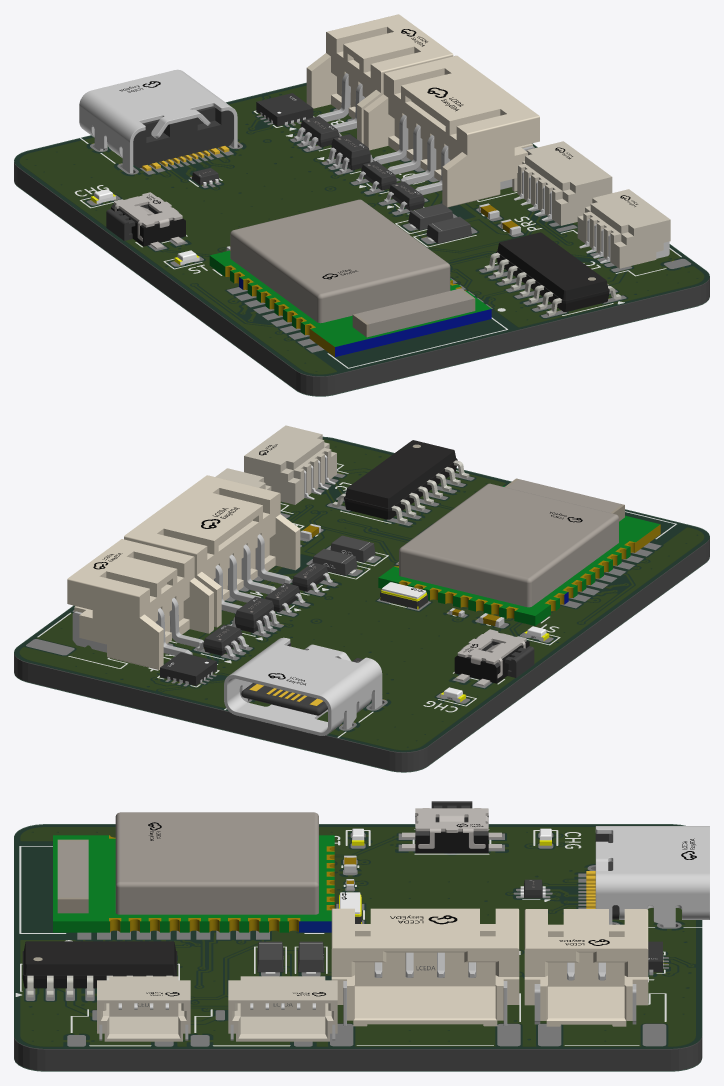
Rendered from board.glb.
3 views of the same model, one above another, from view 1: azimuth 30°, elevation 25°; view 2: azimuth 150°, elevation 25°; view 3: azimuth 270°, elevation 25° (orthographic). The views are drawn at different scales.
Parts seen in each view (by area): view 1: bluebuzz_soldermask (×2), bluebuzz_copper, WIRELM-SMD_L18.0-W13.0-H3.0-E73-2G4M08S1C, bluebuzz_PCB, CONN-SMD_PH2.00-WS-4P, USB-C_SMD-TYPE-C-31-M-12_1, CONN-SMD_P2.00_S2B-PH-SM4-TB-LF-SN, SOIC-16_3.9x9.9mm_P1.27mm, CONN-SMD_SR1.00-WS-5P, CONN-SMD_SR1.00-WS-4P, bluebuzz_pad, SW-SMD_EVQPUC02K-L4.5-W4.7-H1.7-P5.25-LS6.4 (+6 smaller); view 2: bluebuzz_soldermask (×2), bluebuzz_copper, WIRELM-SMD_L18.0-W13.0-H3.0-E73-2G4M08S1C, bluebuzz_PCB, CONN-SMD_P2.00_S2B-PH-SM4-TB-LF-SN, CONN-SMD_PH2.00-WS-4P, USB-C_SMD-TYPE-C-31-M-12_1, SOIC-16_3.9x9.9mm_P1.27mm, CONN-SMD_SR1.00-WS-4P, bluebuzz_pad, SW-SMD_EVQPUC02K-L4.5-W4.7-H1.7-P5.25-LS6.4, SOD-123_L2.7-W1.6-LS3.7-RD-1 (×2) (+7 smaller); view 3: bluebuzz_soldermask (×2), bluebuzz_copper, WIRELM-SMD_L18.0-W13.0-H3.0-E73-2G4M08S1C, bluebuzz_PCB, CONN-SMD_PH2.00-WS-4P, CONN-SMD_P2.00_S2B-PH-SM4-TB-LF-SN, USB-C_SMD-TYPE-C-31-M-12_1, CONN-SMD_SR1.00-WS-5P, SOIC-16_3.9x9.9mm_P1.27mm, CONN-SMD_SR1.00-WS-4P, bluebuzz_pad, SW-SMD_EVQPUC02K-L4.5-W4.7-H1.7-P5.25-LS6.4 (+5 smaller).
Part boxes in pixels (x1=…): bluebuzz_soldermask (×2): x1=14, y1=82, x2=709, y2=396; bluebuzz_copper: x1=20, y1=86, x2=703, y2=373; WIRELM-SMD_L18.0-W13.0-H3.0-E73-2G4M08S1C: x1=209, y1=199, x2=491, y2=356; bluebuzz_PCB: x1=14, y1=84, x2=709, y2=395; CONN-SMD_PH2.00-WS-4P: x1=363, y1=55, x2=539, y2=207; USB-C_SMD-TYPE-C-31-M-12_1: x1=79, y1=69, x2=237, y2=173; CONN-SMD_P2.00_S2B-PH-SM4-TB-LF-SN: x1=306, y1=14, x2=453, y2=143; SOIC-16_3.9x9.9mm_P1.27mm: x1=484, y1=232, x2=621, y2=315; CONN-SMD_SR1.00-WS-5P: x1=512, y1=141, x2=612, y2=225; CONN-SMD_SR1.00-WS-4P: x1=577, y1=189, x2=670, y2=268; bluebuzz_pad: x1=86, y1=108, x2=690, y2=352; SW-SMD_EVQPUC02K-L4.5-W4.7-H1.7-P5.25-LS6.4: x1=106, y1=192, x2=185, y2=248; bluebuzz_soldermask (×2): x1=14, y1=436, x2=709, y2=772; bluebuzz_copper: x1=20, y1=440, x2=703, y2=749; WIRELM-SMD_L18.0-W13.0-H3.0-E73-2G4M08S1C: x1=378, y1=478, x2=660, y2=625; bluebuzz_PCB: x1=14, y1=438, x2=709, y2=771; CONN-SMD_P2.00_S2B-PH-SM4-TB-LF-SN: x1=67, y1=539, x2=213, y2=669; CONN-SMD_PH2.00-WS-4P: x1=124, y1=475, x2=300, y2=627; USB-C_SMD-TYPE-C-31-M-12_1: x1=224, y1=637, x2=382, y2=735; SOIC-16_3.9x9.9mm_P1.27mm: x1=332, y1=440, x2=469, y2=523; CONN-SMD_SR1.00-WS-4P: x1=244, y1=425, x2=336, y2=504; bluebuzz_pad: x1=26, y1=473, x2=661, y2=730; SW-SMD_EVQPUC02K-L4.5-W4.7-H1.7-P5.25-LS6.4: x1=454, y1=629, x2=534, y2=686; SOD-123_L2.7-W1.6-LS3.7-RD-1 (×2): x1=312, y1=535, x2=375, y2=575; bluebuzz_soldermask (×2): x1=14, y1=824, x2=702, y2=1071; bluebuzz_copper: x1=21, y1=827, x2=695, y2=1046; WIRELM-SMD_L18.0-W13.0-H3.0-E73-2G4M08S1C: x1=53, y1=812, x2=334, y2=932; bluebuzz_PCB: x1=14, y1=825, x2=702, y2=1070; CONN-SMD_PH2.00-WS-4P: x1=331, y1=908, x2=519, y2=1026; CONN-SMD_P2.00_S2B-PH-SM4-TB-LF-SN: x1=524, y1=909, x2=648, y2=1026; USB-C_SMD-TYPE-C-31-M-12_1: x1=586, y1=826, x2=709, y2=927; CONN-SMD_SR1.00-WS-5P: x1=228, y1=976, x2=337, y2=1041; SOIC-16_3.9x9.9mm_P1.27mm: x1=22, y1=941, x2=177, y2=997; CONN-SMD_SR1.00-WS-4P: x1=97, y1=976, x2=190, y2=1041; bluebuzz_pad: x1=25, y1=833, x2=681, y2=1046; SW-SMD_EVQPUC02K-L4.5-W4.7-H1.7-P5.25-LS6.4: x1=402, y1=801, x2=501, y2=853.
Bounding box in the file's own units: 0.034 × 0.00763 × 0.0445.
